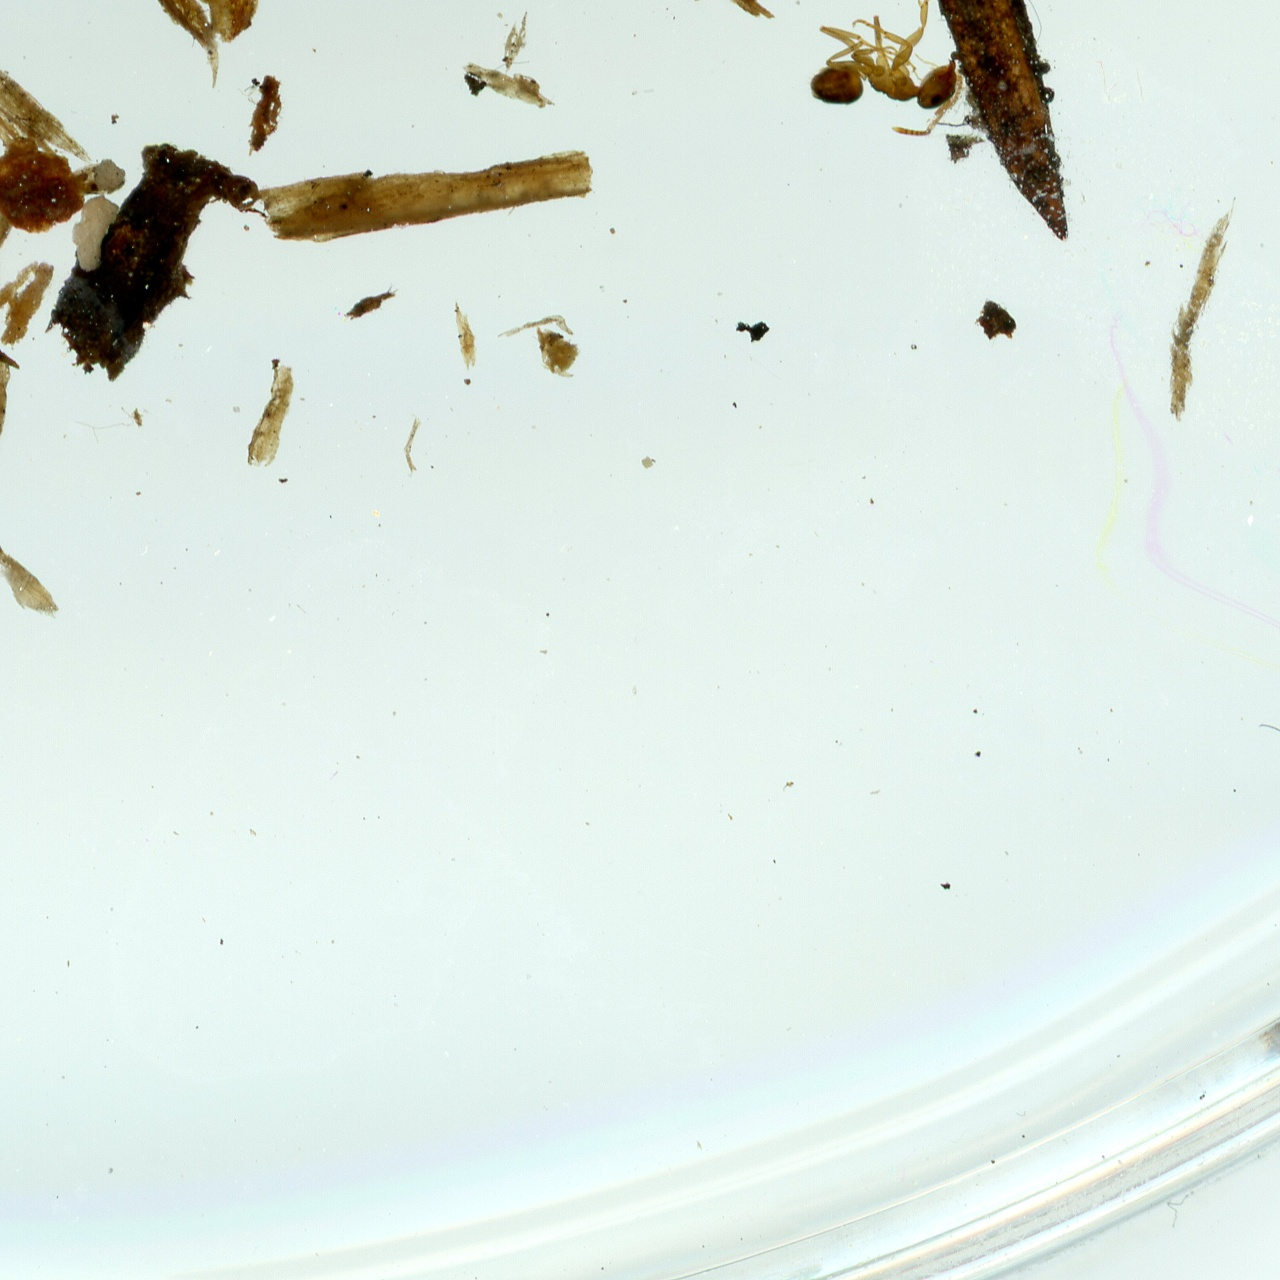arthropod: (806, 0, 966, 141)
